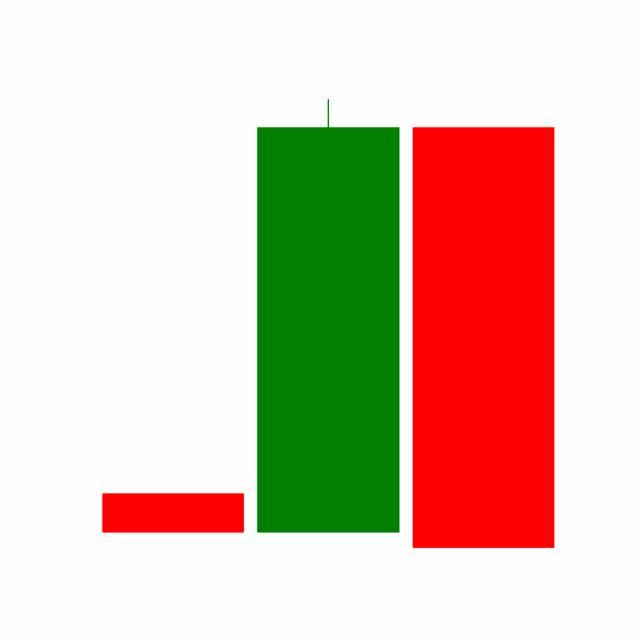Marubozu: (406, 124, 562, 554)
